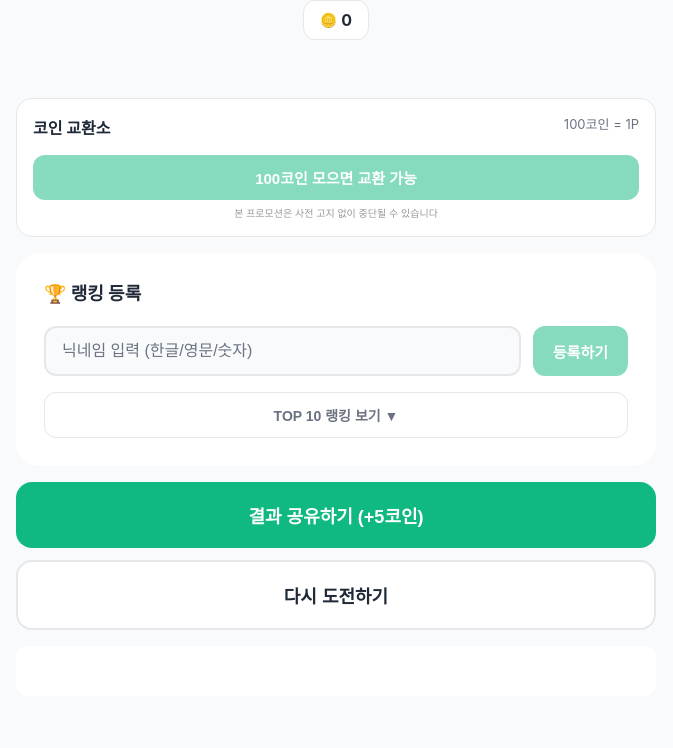
it: ResultPage › 랭킹 목록 표시 › should show medal emojis for top 3 rankings
(page scrolled)
Click the button "TOP 10 랭킹 보기 ▼".
click(336, 415)  # box top-left (44, 392), bottom-right (628, 438)
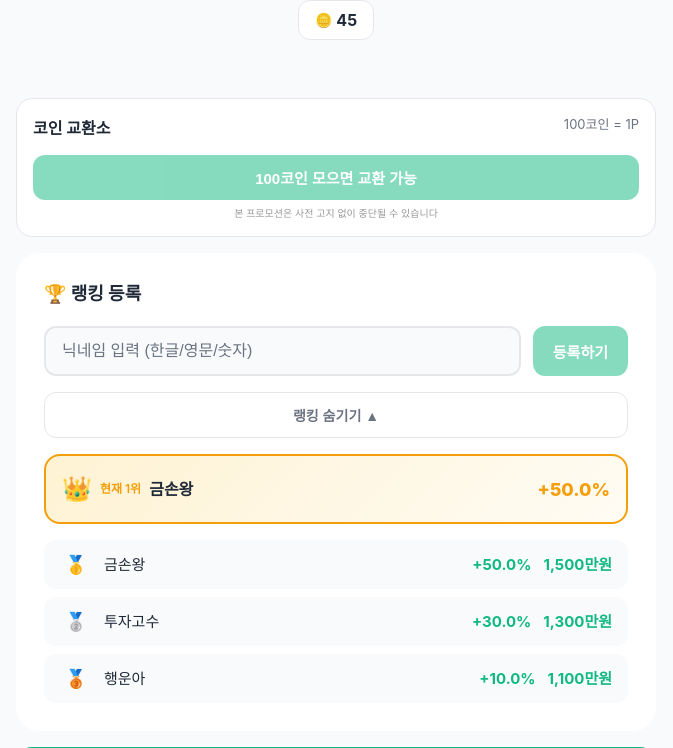
Now the text with class "ranking-position" reads "🥇", box top-left (65, 554), bottom-right (87, 575)
Now the text with class "ranking-position" reads "🥈", box top-left (65, 611), bottom-right (87, 632)
Now the text with class "ranking-position" reads "🥉", box top-left (65, 668), bottom-right (87, 689)
